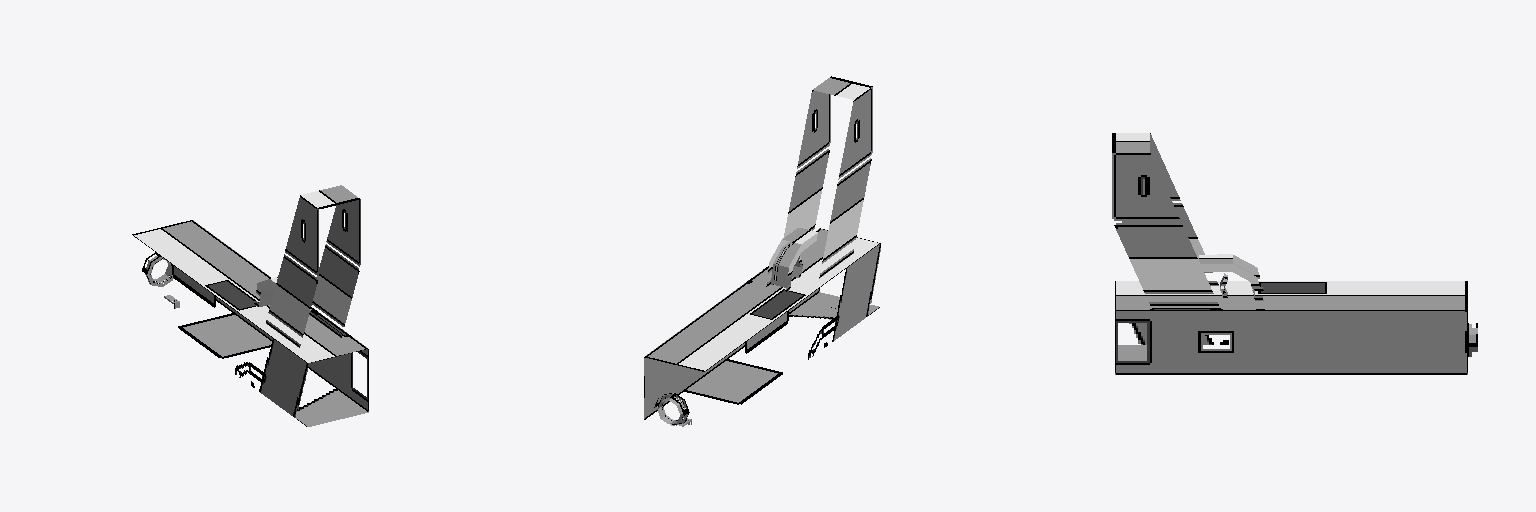
The picture shows the model from 3 angles: view 1: azimuth 30°, elevation 25°; view 2: azimuth 150°, elevation 25°; view 3: azimuth 270°, elevation 25°; orthographic projection.
Parts seen in each view (by area): view 1: glock; view 2: glock; view 3: glock.
Part boxes in pixels (bbox=[...]): glock: bbox=[132, 185, 368, 426]; glock: bbox=[644, 76, 880, 426]; glock: bbox=[1112, 132, 1477, 374].
Bounding box in the file's own units: 0.2 × 0.7101 × 1.13.
Materials: 1 (1 with a texture image).